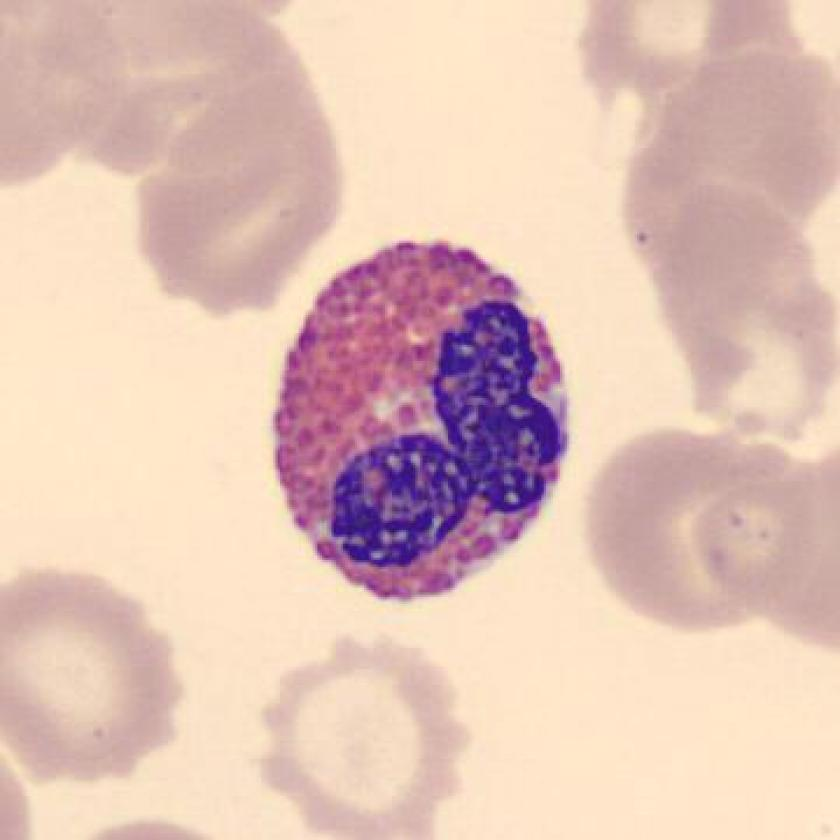eosinophil: (260, 228, 587, 619)
